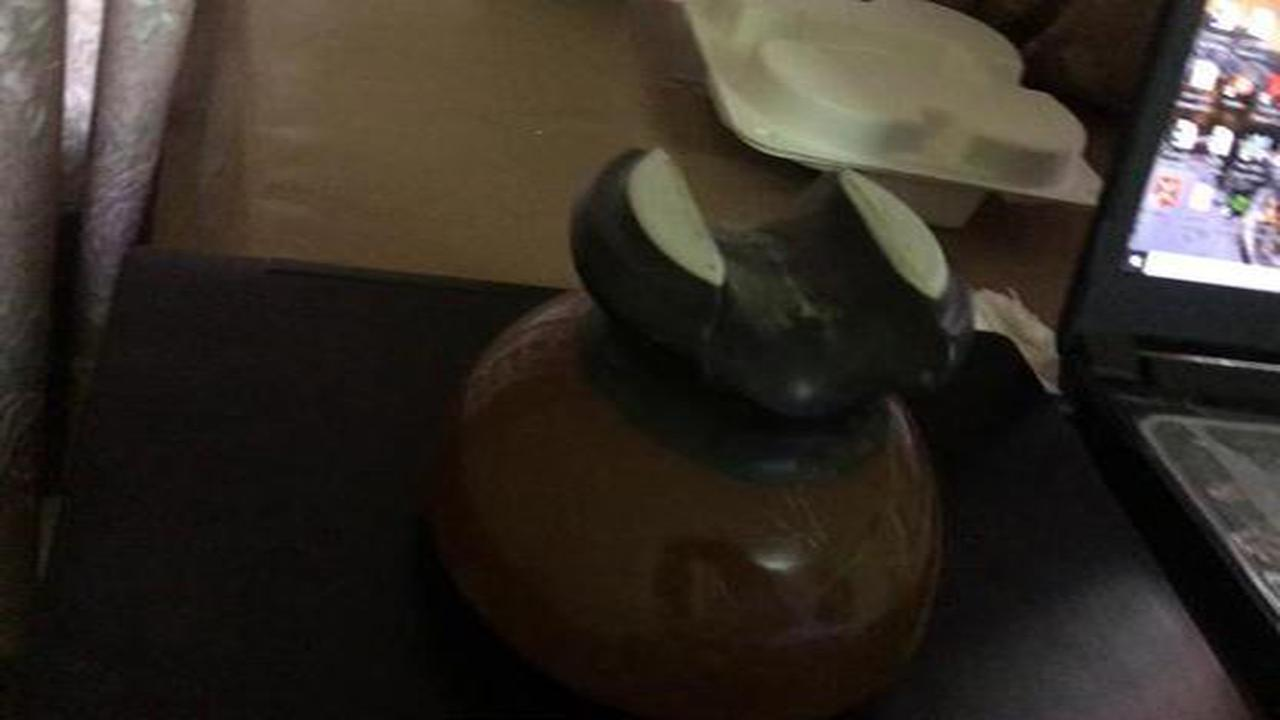insulator_pin: (401, 122, 1001, 708)
